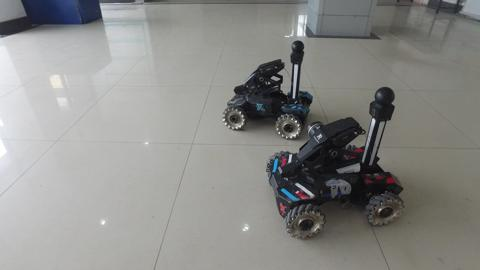chariot: (255, 84, 414, 248), (218, 37, 322, 145)
